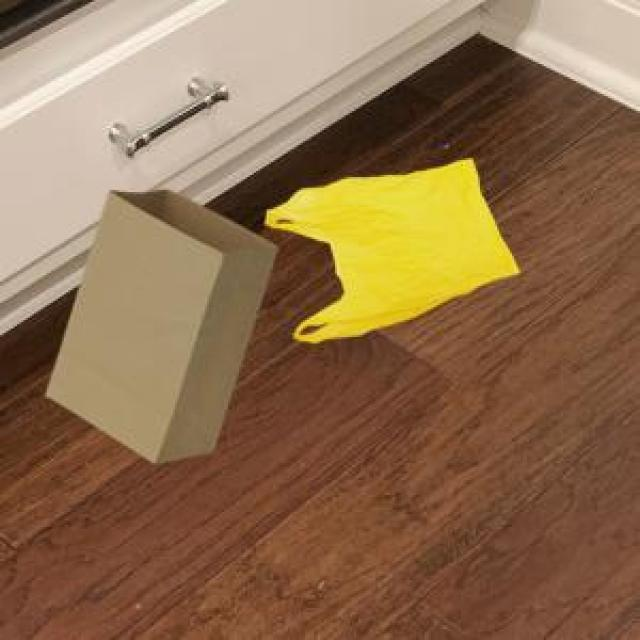paper: (43, 186, 273, 459)
